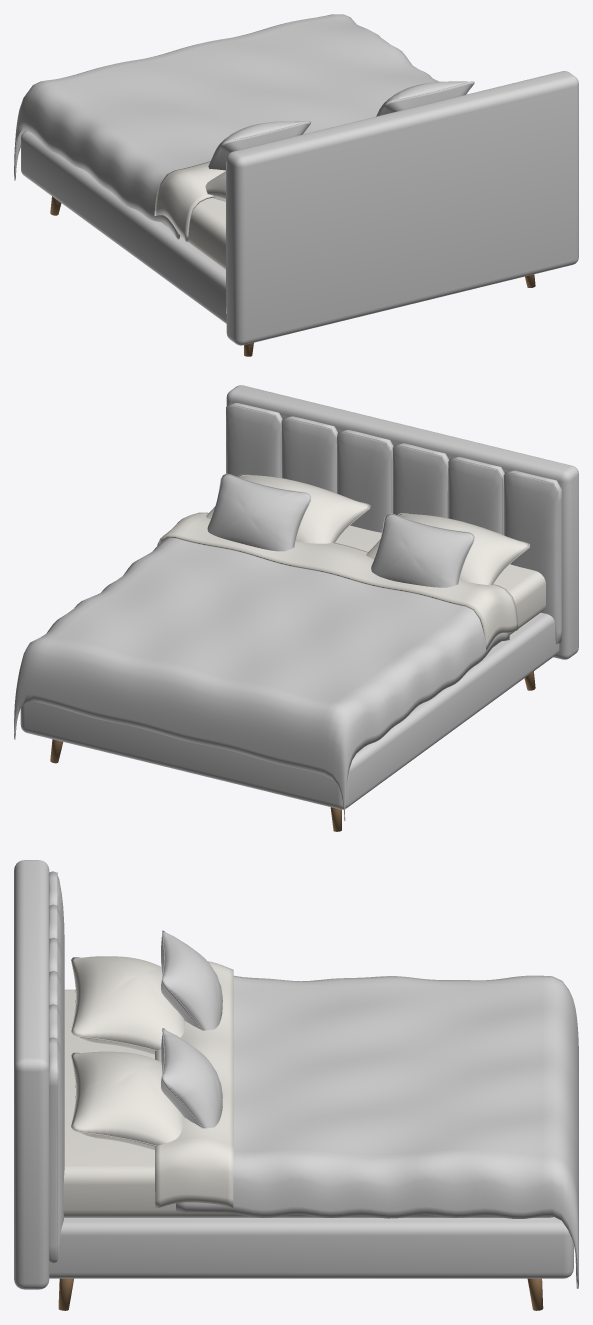
Rendered from bed-upholstered-cal-king.glb.
3 renders of one model, top to bottom at view 1: azimuth 30°, elevation 25°; view 2: azimuth 150°, elevation 25°; view 3: azimuth 270°, elevation 25°, orthographic. The views are drawn at different scales.
Parts seen in each view (by area): view 1: Padded headboard, Soft draped duvet, Upholstered platform, Turned-back duvet edge, Rounded mattress, Loose accent pillow, Loose accent pillow.001; view 2: Soft draped duvet, Upholstered platform, Padded headboard, Turned-back duvet edge, Headboard padded channel, Loose accent pillow.001, Loose accent pillow, Headboard padded channel.003, Headboard padded channel.005, Headboard padded channel.002, Headboard padded channel.001, Headboard padded channel.004 (+3 smaller); view 3: Soft draped duvet, Upholstered platform, Padded headboard, Rounded mattress, Turned-back duvet edge, Sleeping pillow.001, Sleeping pillow, Loose accent pillow, Loose accent pillow.001, Headboard padded channel.005, Headboard padded channel.003, Headboard padded channel.004 (+1 smaller).
Boxes of the visible parts, x1,y1,x2,y2 form: Padded headboard: (226, 71, 578, 345); Soft draped duvet: (14, 14, 439, 239); Upholstered platform: (21, 130, 226, 323); Turned-back duvet edge: (154, 161, 225, 241); Rounded mattress: (161, 198, 225, 269); Loose accent pillow: (208, 121, 310, 170); Loose accent pillow.001: (376, 81, 474, 116); Soft draped duvet: (14, 537, 509, 820); Upholstered platform: (20, 612, 559, 809); Padded headboard: (226, 385, 578, 659); Turned-back duvet edge: (157, 512, 518, 650); Headboard padded channel: (504, 470, 561, 643); Loose accent pillow.001: (207, 474, 310, 551); Loose accent pillow: (371, 514, 473, 587); Headboard padded channel.003: (337, 429, 393, 532); Headboard padded channel.005: (226, 402, 282, 477); Headboard padded channel.002: (392, 443, 448, 517); Headboard padded channel.001: (448, 457, 504, 534); Headboard padded channel.004: (281, 416, 337, 493); Soft draped duvet: (176, 975, 578, 1288); Upholstered platform: (49, 1217, 573, 1278); Padded headboard: (14, 860, 49, 1289); Rounded mattress: (63, 989, 553, 1217); Turned-back duvet edge: (155, 961, 233, 1208); Sleeping pillow.001: (71, 1051, 183, 1150); Sleeping pillow: (71, 956, 184, 1054); Loose accent pillow: (161, 931, 222, 1030); Loose accent pillow.001: (161, 1028, 222, 1128); Headboard padded channel.005: (49, 1037, 64, 1263); Headboard padded channel.003: (49, 971, 64, 1067); Headboard padded channel.004: (49, 1004, 64, 1102).
Bounding box in the file's own units: 1.85 × 1.12 × 2.15.
3 materials, 1 textured.
